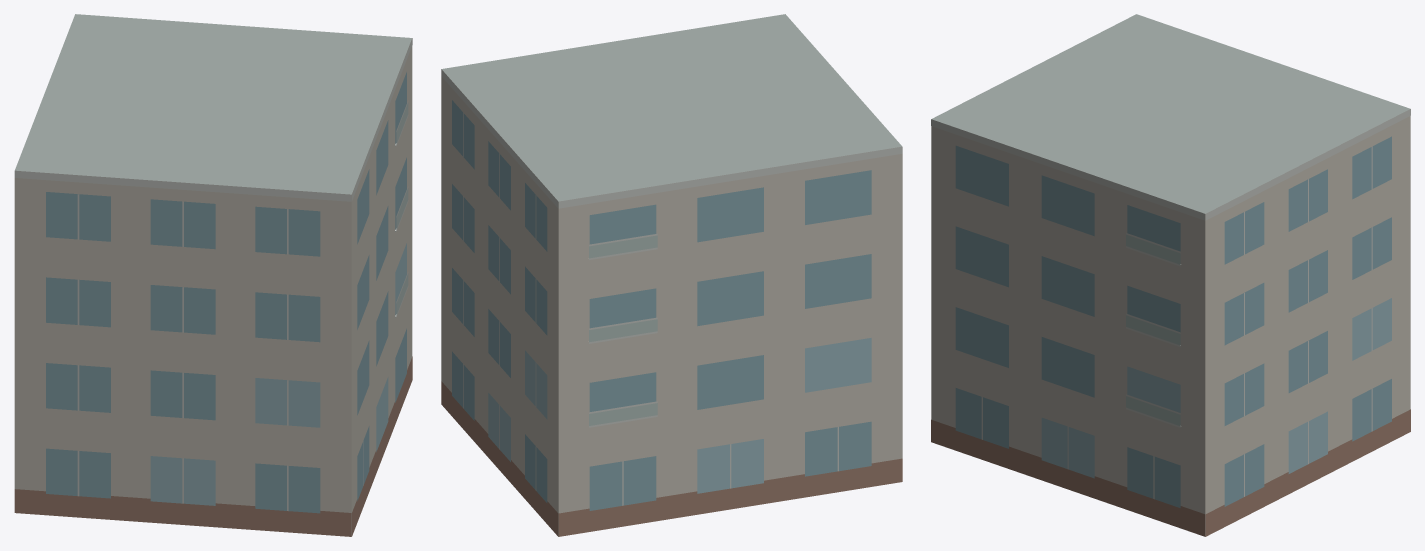
The model's file is survey-upis-32525287.glb.
The picture shows the model from 3 angles, left to right: view 1: azimuth 30°, elevation 25°; view 2: azimuth 150°, elevation 25°; view 3: azimuth 270°, elevation 25°; orthographic projection. The views are drawn at different scales.
Visible parts, largest first — view 1: survey-upis-32525287.tmp; view 2: survey-upis-32525287.tmp; view 3: survey-upis-32525287.tmp.
Part boxes in pixels (left/top/right/bottom): survey-upis-32525287.tmp: left=14, top=14, right=412, bottom=536; survey-upis-32525287.tmp: left=441, top=14, right=902, bottom=536; survey-upis-32525287.tmp: left=931, top=14, right=1410, bottom=536.
Size of the model in its own units: 15.23 by 11.47 by 15.44.
